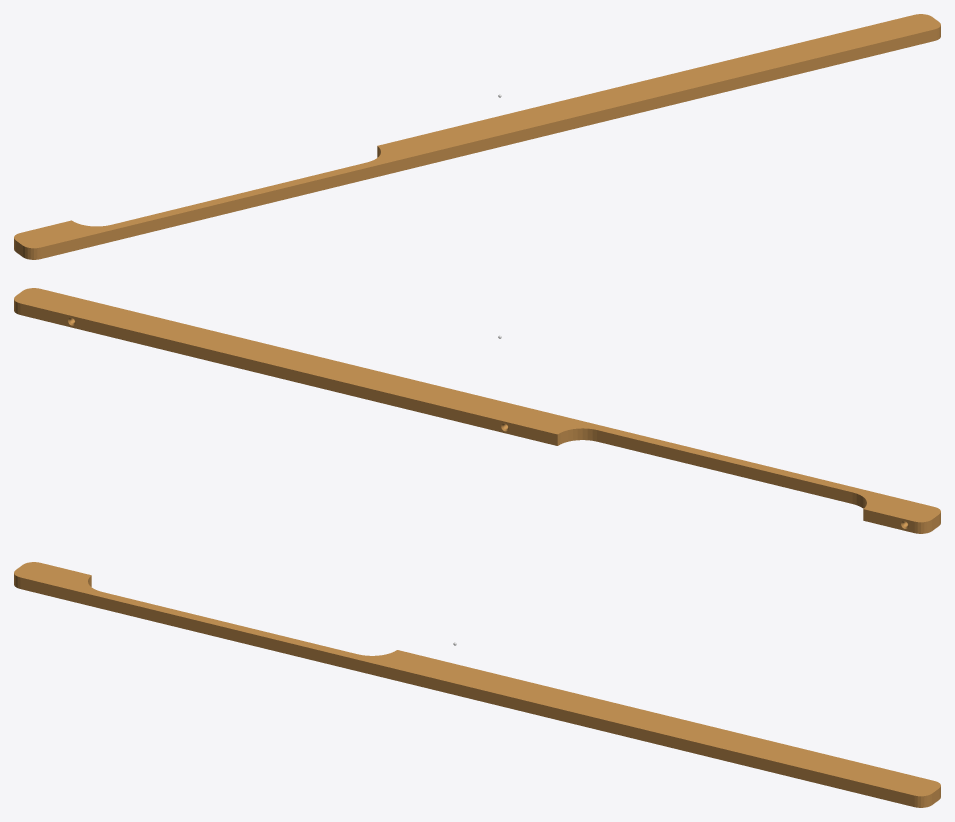
File: 187 pvd gold.glb
3 views of the same model, one above another, from view 1: azimuth 30°, elevation 25°; view 2: azimuth 150°, elevation 25°; view 3: azimuth 330°, elevation 25° (orthographic).
Visible parts, largest first — view 1: CABINET_HANDLE_187; view 2: CABINET_HANDLE_187; view 3: CABINET_HANDLE_187.
Boxes of the visible parts, <box> form: CABINET_HANDLE_187: <box>14,14,940,259</box>; CABINET_HANDLE_187: <box>14,288,940,533</box>; CABINET_HANDLE_187: <box>14,562,940,807</box>.
Size of the model in its own units: 2.85 by 0.1923 by 0.1793.
